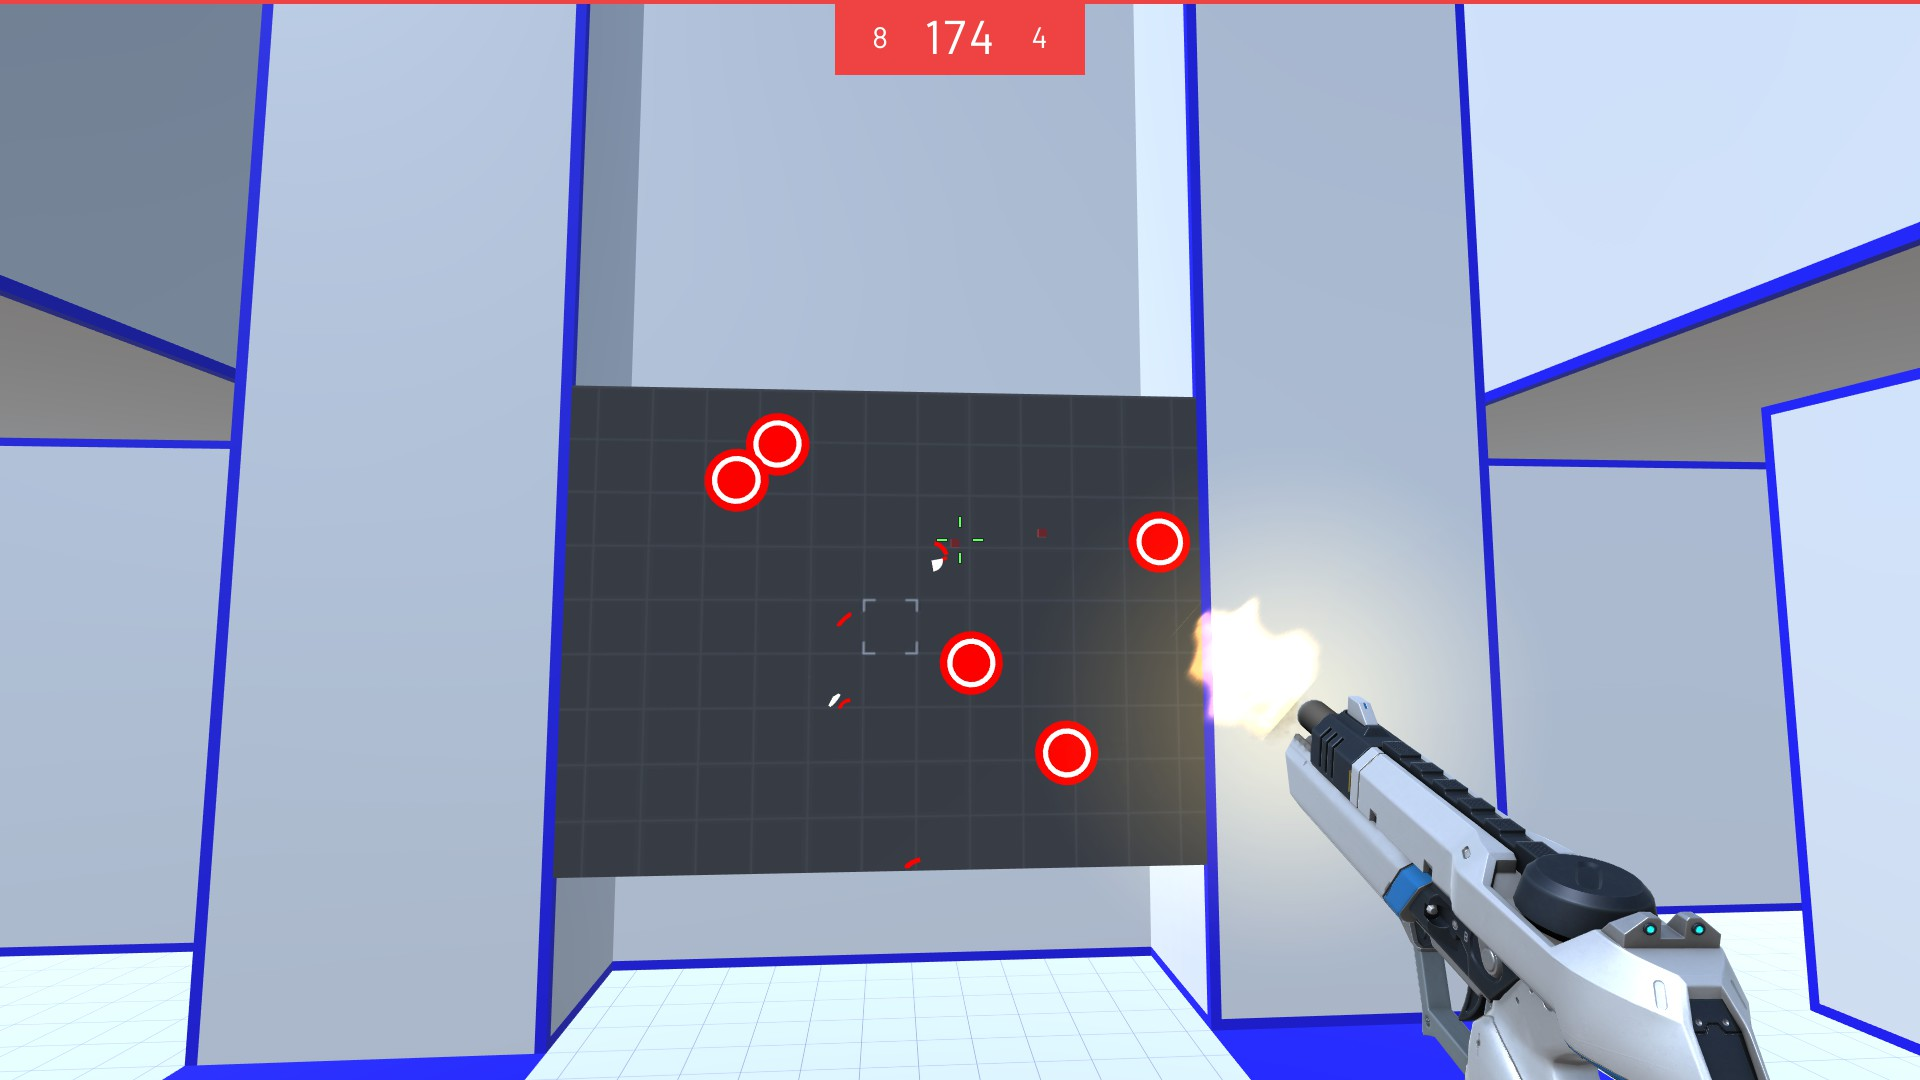target: (1029, 716, 1098, 789), (1125, 512, 1193, 579), (938, 626, 1005, 692), (705, 447, 769, 513), (746, 413, 810, 475)
